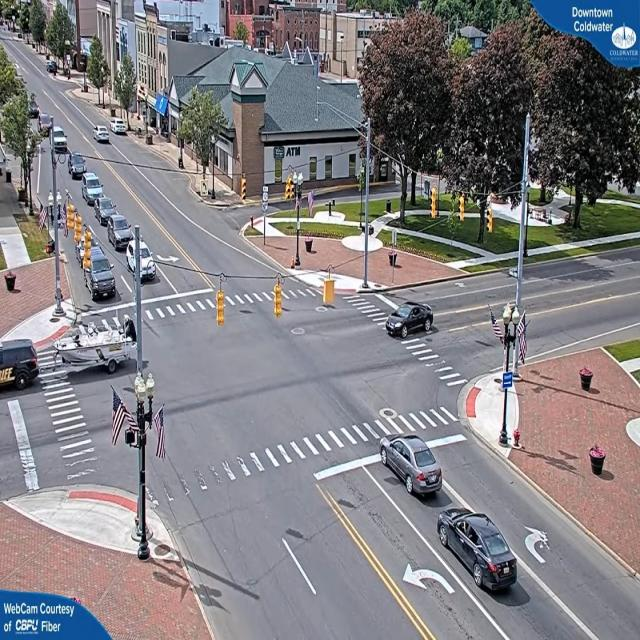car: (439, 508, 523, 594), (378, 434, 444, 500), (386, 302, 433, 339), (86, 250, 118, 297), (106, 216, 136, 250), (84, 180, 104, 204), (84, 172, 104, 193)
